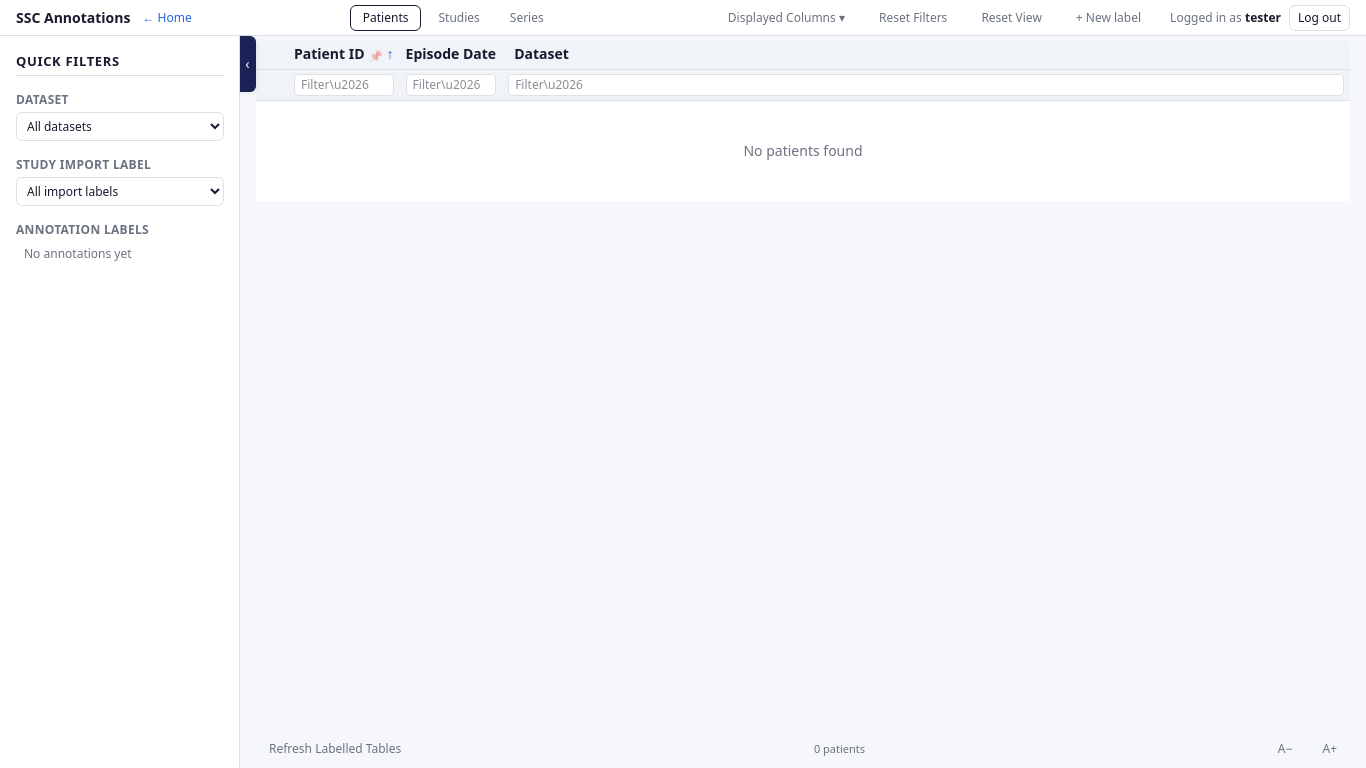
Test: copy-path button gating › hides the copy-path buttons from non-admins
Click the button "Series".
click(527, 18)  # box [497,4,557,30]
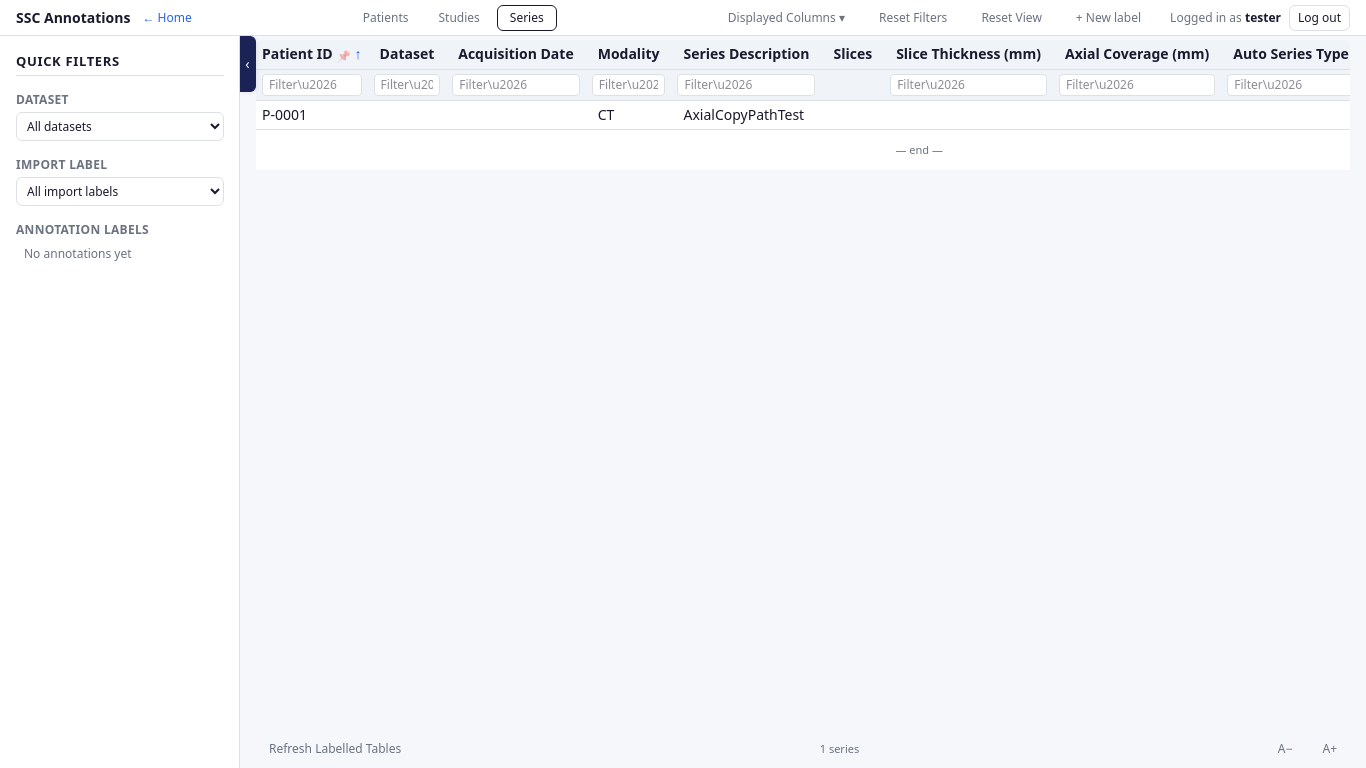
Now the text "AxialCopyPathTest" is shown, box [672,100,822,130]
